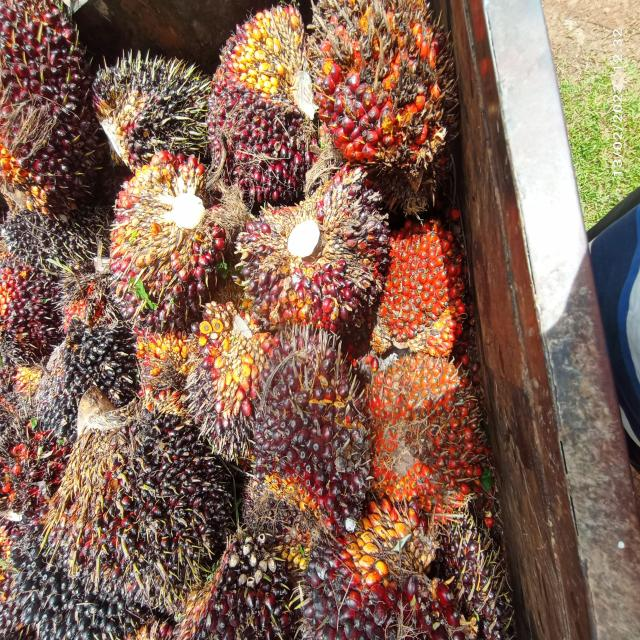fraksi 00: (47, 374, 228, 621), (318, 499, 520, 640), (178, 286, 292, 466), (7, 511, 165, 640), (83, 26, 208, 183), (3, 210, 94, 380), (28, 311, 152, 422)
fraksi 1: (220, 152, 414, 334), (186, 0, 339, 216), (224, 316, 364, 534), (0, 0, 98, 213)
fraksi 3: (98, 149, 236, 328)
fraksi 4: (306, 0, 476, 203), (360, 341, 503, 520), (380, 202, 482, 374)
